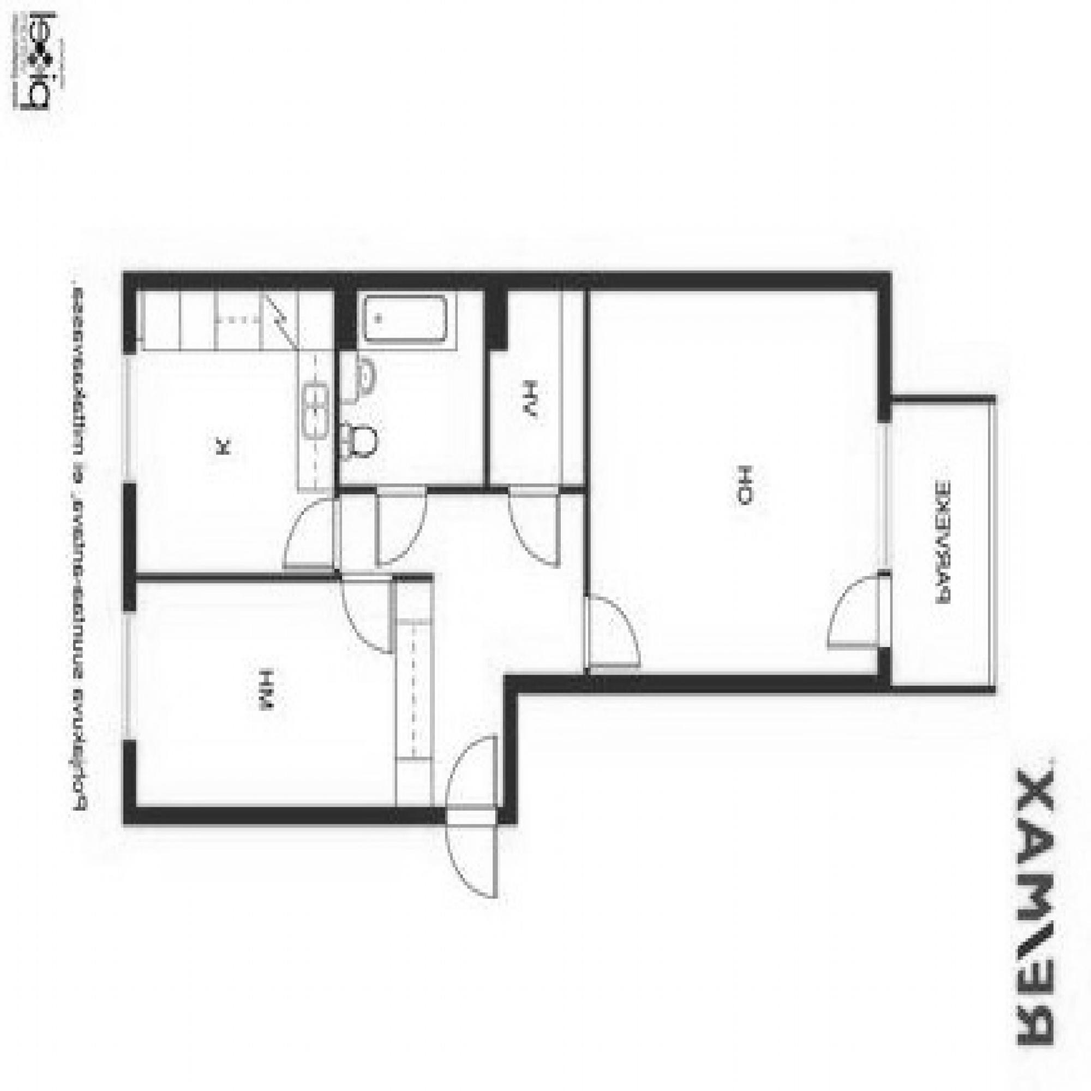wall: (122, 270, 893, 289), (504, 675, 893, 694), (122, 271, 135, 824), (122, 806, 517, 824), (879, 270, 893, 693), (122, 570, 434, 581), (334, 483, 591, 493), (585, 271, 591, 694), (334, 271, 341, 581), (504, 675, 517, 824), (484, 271, 491, 493), (893, 686, 997, 694), (893, 395, 997, 403)
